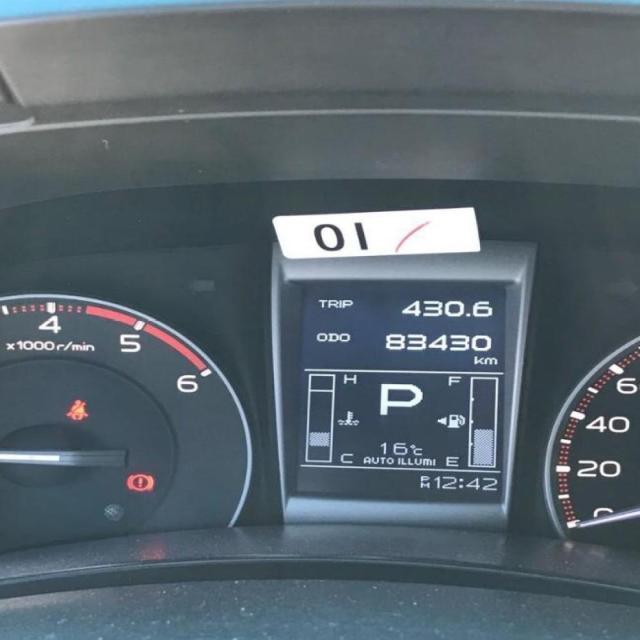Seat Belt: (64, 396, 90, 420)
